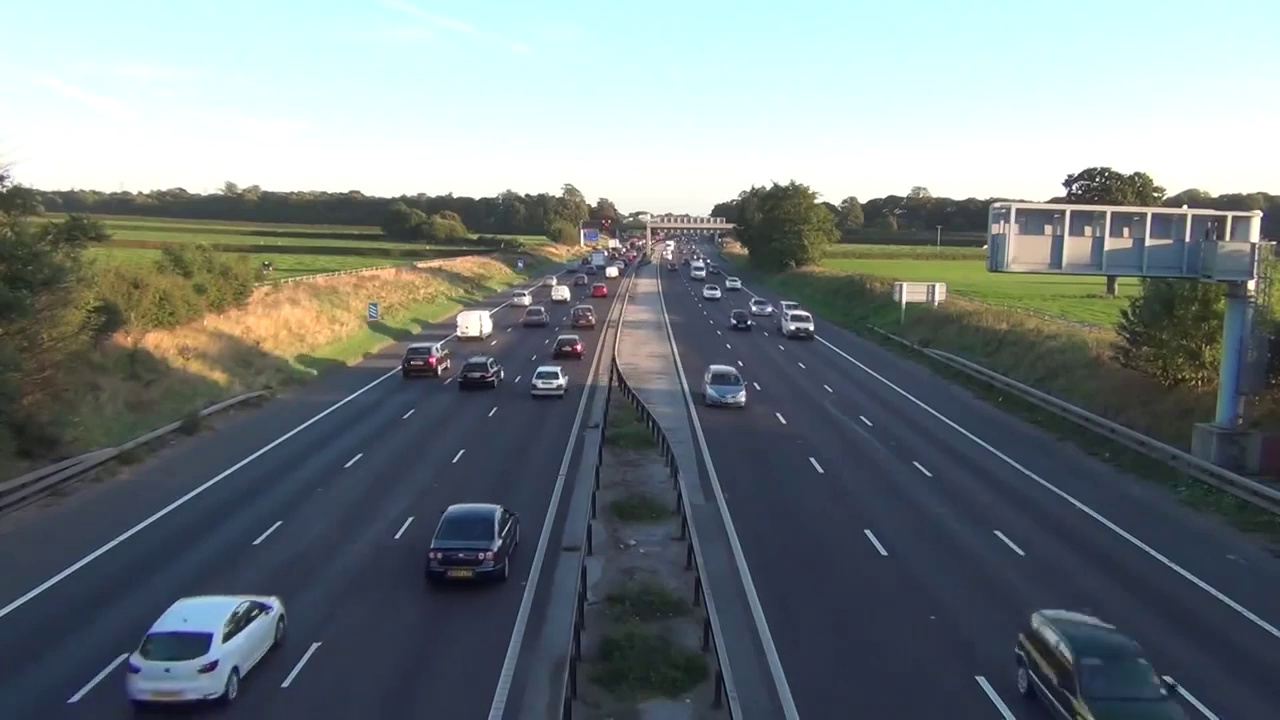bus: (1014, 607, 1191, 720), (124, 591, 288, 712), (426, 503, 522, 583), (701, 364, 748, 409), (401, 342, 451, 377), (458, 356, 505, 389), (529, 365, 570, 400), (780, 310, 815, 340), (552, 334, 584, 359), (571, 305, 598, 329), (522, 306, 550, 327), (728, 308, 753, 330), (749, 297, 773, 317), (551, 285, 572, 304), (511, 290, 532, 307), (701, 283, 722, 300), (590, 282, 608, 298), (725, 277, 742, 291), (605, 265, 619, 279), (542, 275, 558, 286), (574, 273, 588, 285)
car: (456, 309, 494, 341), (689, 261, 707, 281), (592, 251, 607, 268)
